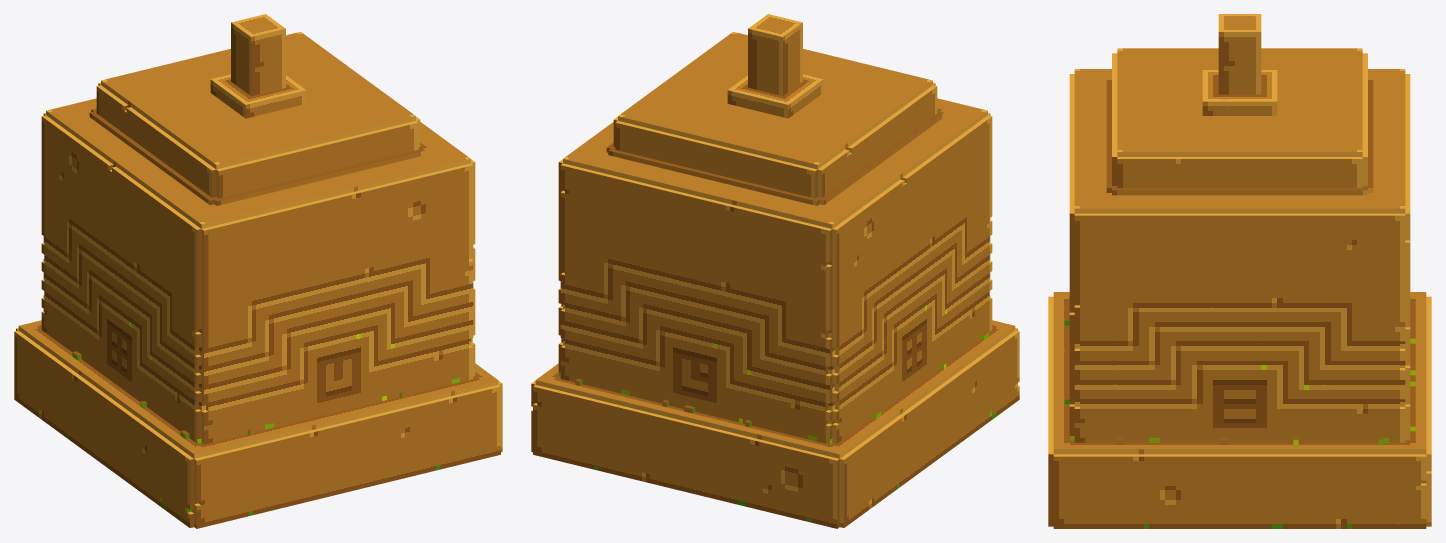
The model's file is bellao.fezao.glb.
The picture shows the model from 3 angles, left to right: view 1: azimuth 30°, elevation 25°; view 2: azimuth 150°, elevation 25°; view 3: azimuth 270°, elevation 25°; orthographic projection. The views are drawn at different scales.
Parts seen in each view (by area): view 1: BELLAO; view 2: BELLAO; view 3: BELLAO.
Part boxes in pixels (x1,y1,x2,y2): BELLAO: (14, 14, 502, 528); BELLAO: (531, 14, 1019, 528); BELLAO: (1048, 14, 1431, 528).
Size of the model in its own units: 4.5 by 5.75 by 4.5.
Materials: 1 (1 with a texture image).
